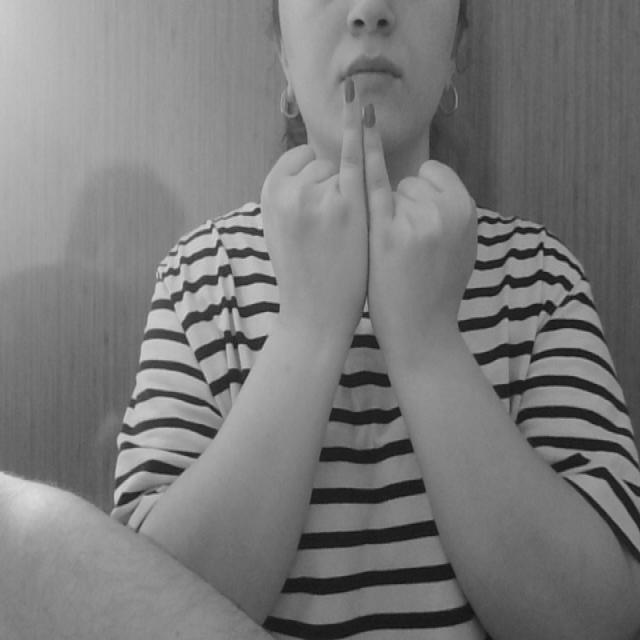Kardes: (262, 76, 481, 345)
